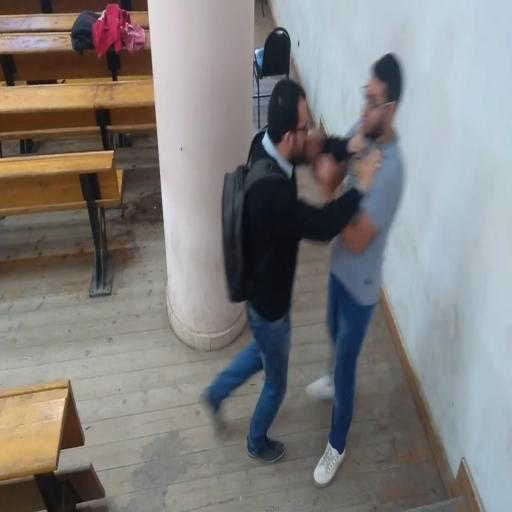violencia: (191, 46, 416, 495)
